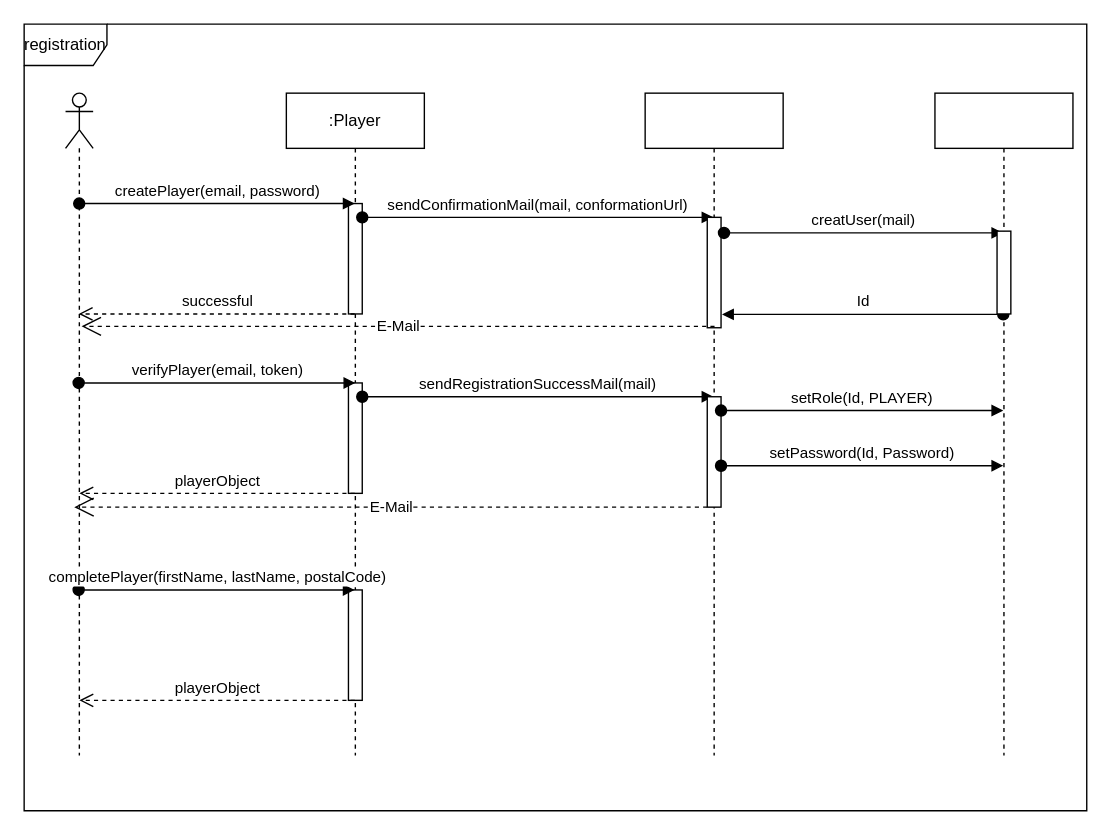
The diagram is 1111 pixels wide and 835 high, and some of its shapes have lost their labels. The shapes that lost their labels are listed below. From the top down, each one's centre as x and y in pixels, then its label:
At point (713, 424): ":Application".
At point (1003, 424): ":Keycloak".
